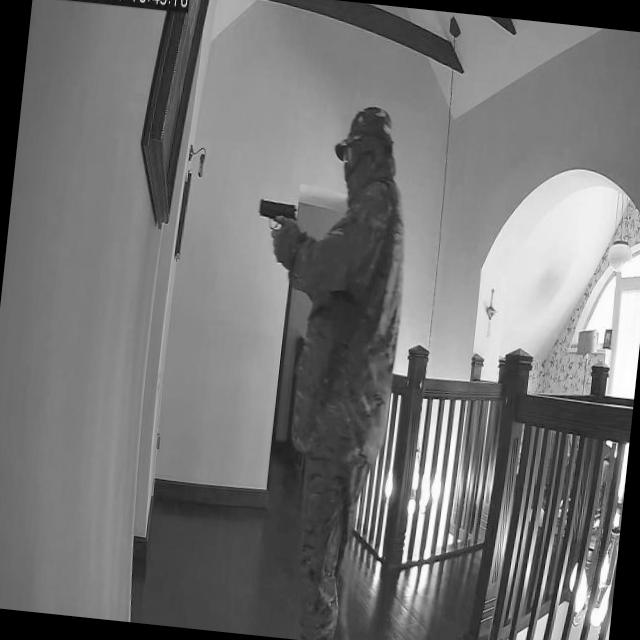gun: (253, 193, 300, 242)
person with a gun: (211, 93, 418, 640)
